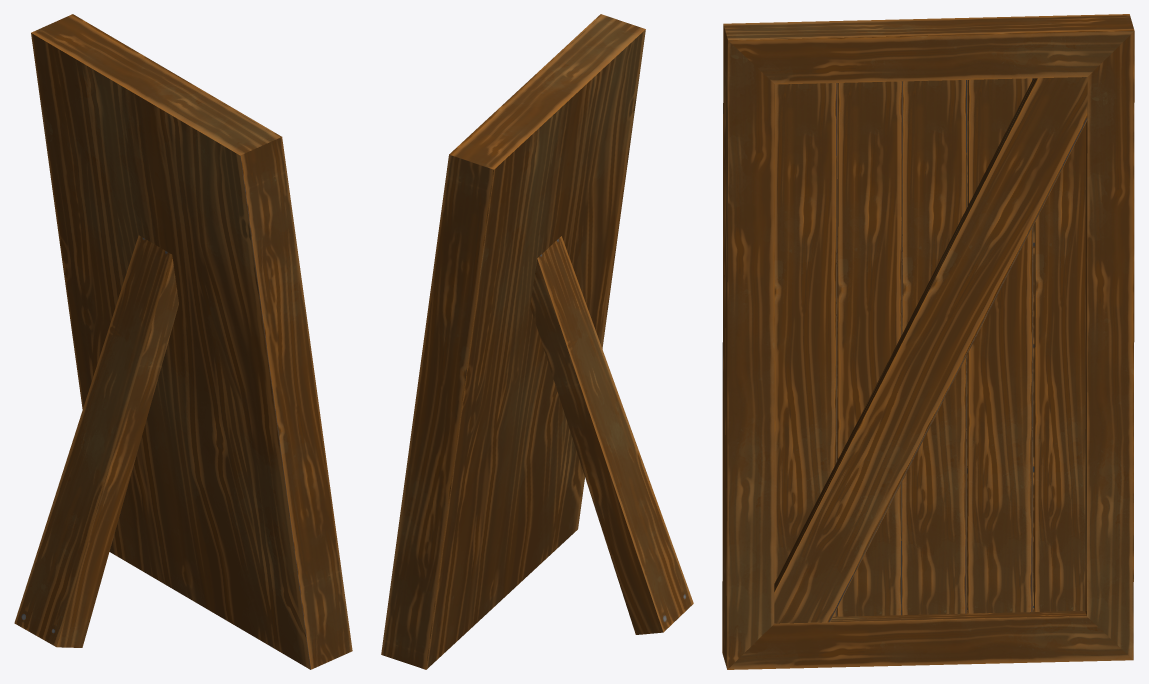
3 views of the same model, side by side, from view 1: azimuth 30°, elevation 25°; view 2: azimuth 150°, elevation 25°; view 3: azimuth 270°, elevation 25° (orthographic). The views are drawn at different scales.
Visible parts, largest first — view 1: Cube.1850; view 2: Cube.1850; view 3: Cube.1850.
Part boxes in pixels (left/top/right/bottom): Cube.1850: left=14, top=14, right=352, bottom=669; Cube.1850: left=381, top=14, right=693, bottom=669; Cube.1850: left=722, top=14, right=1134, bottom=669.
Size of the model in its own units: 156 by 342 by 212.
Materials: 1 (1 with a texture image).
